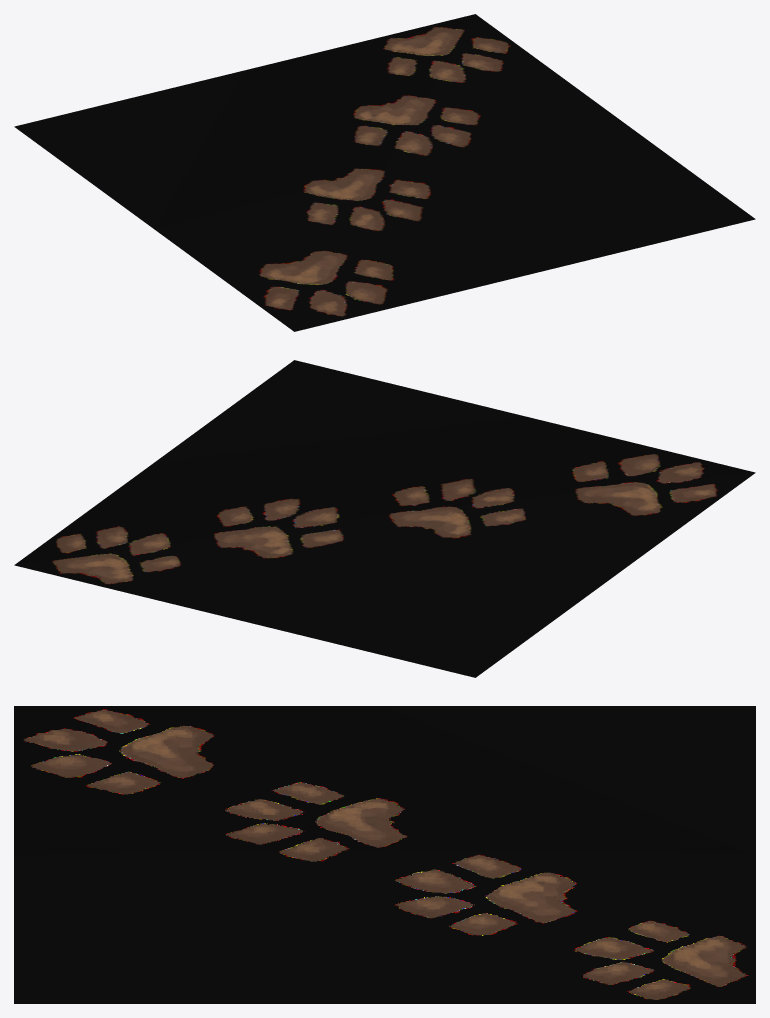
The model's file is SM_D18_PawTracks.fbx.
The picture shows the model from 3 angles, top to bottom: view 1: azimuth 30°, elevation 25°; view 2: azimuth 150°, elevation 25°; view 3: azimuth 270°, elevation 25°; orthographic projection. The views are drawn at different scales.
Visible parts, largest first — view 1: D18_Decal; view 2: D18_Decal; view 3: D18_Decal.
Boxes of the visible parts, x1,y1,x2,y2 form: D18_Decal: (14,14,755,331); D18_Decal: (14,360,755,677); D18_Decal: (14,706,755,1003).
Bounding box in the file's own units: 0.9502 × 0.008 × 1.
